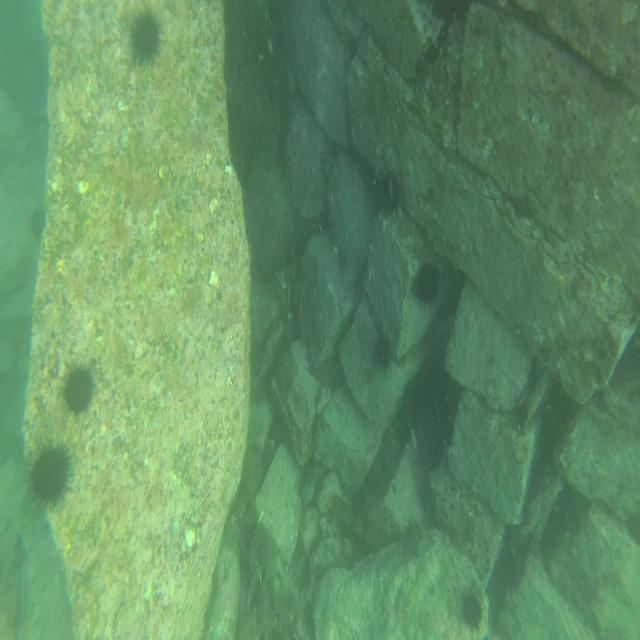echinus: (30, 438, 68, 516), (126, 5, 165, 70), (59, 364, 93, 414), (378, 167, 404, 223), (412, 265, 442, 306), (462, 592, 485, 630), (372, 341, 394, 374), (29, 210, 48, 241)
